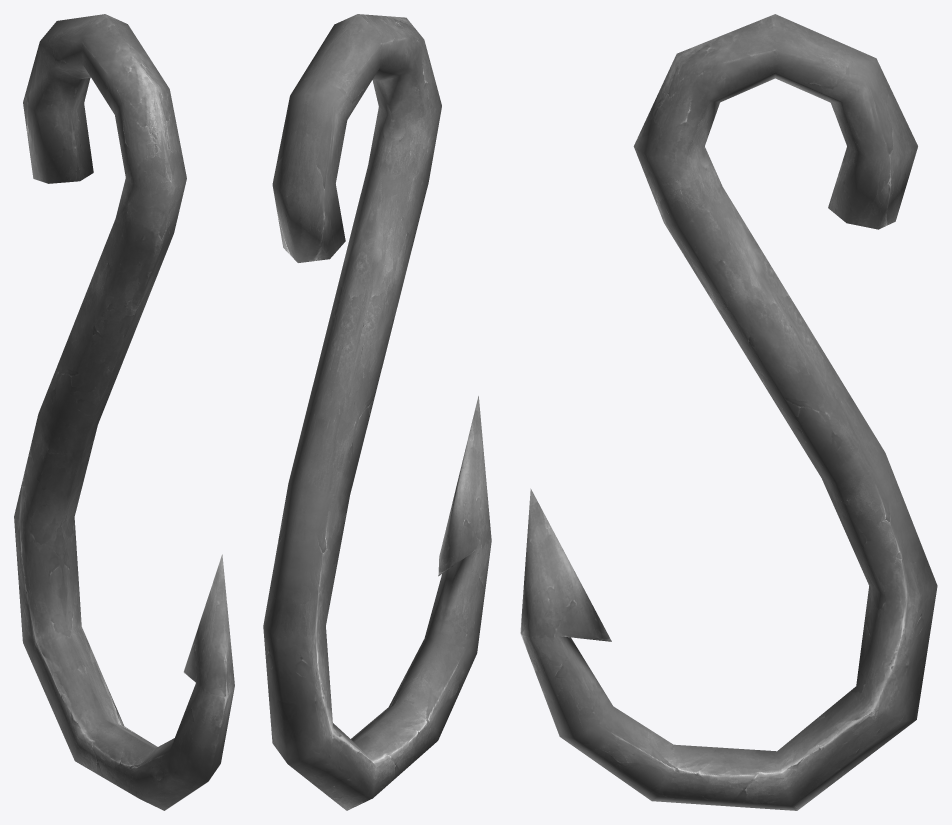
Rendered from Hook01.fbx.
The picture shows the model from 3 angles, left to right: view 1: azimuth 30°, elevation 25°; view 2: azimuth 150°, elevation 25°; view 3: azimuth 270°, elevation 25°; orthographic projection. The views are drawn at different scales.
Parts seen in each view (by area): view 1: Hook01_LOD0; view 2: Hook01_LOD0; view 3: Hook01_LOD0.
Part boxes in pixels (left/top/right/bottom): Hook01_LOD0: left=14, top=14, right=234, bottom=810; Hook01_LOD0: left=263, top=14, right=491, bottom=810; Hook01_LOD0: left=520, top=14, right=937, bottom=810.
Size of what is drawn, in the model's own units: 0.0112 by 0.181 by 0.0859.
